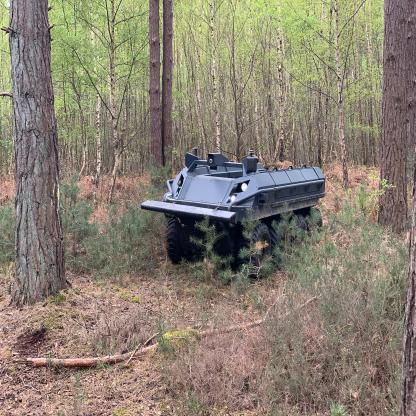UGV: (141, 146, 330, 280)
